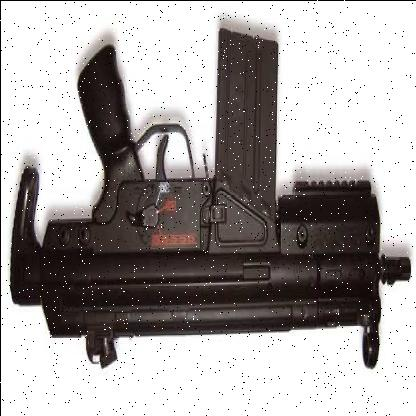rifle: (11, 10, 411, 378)
